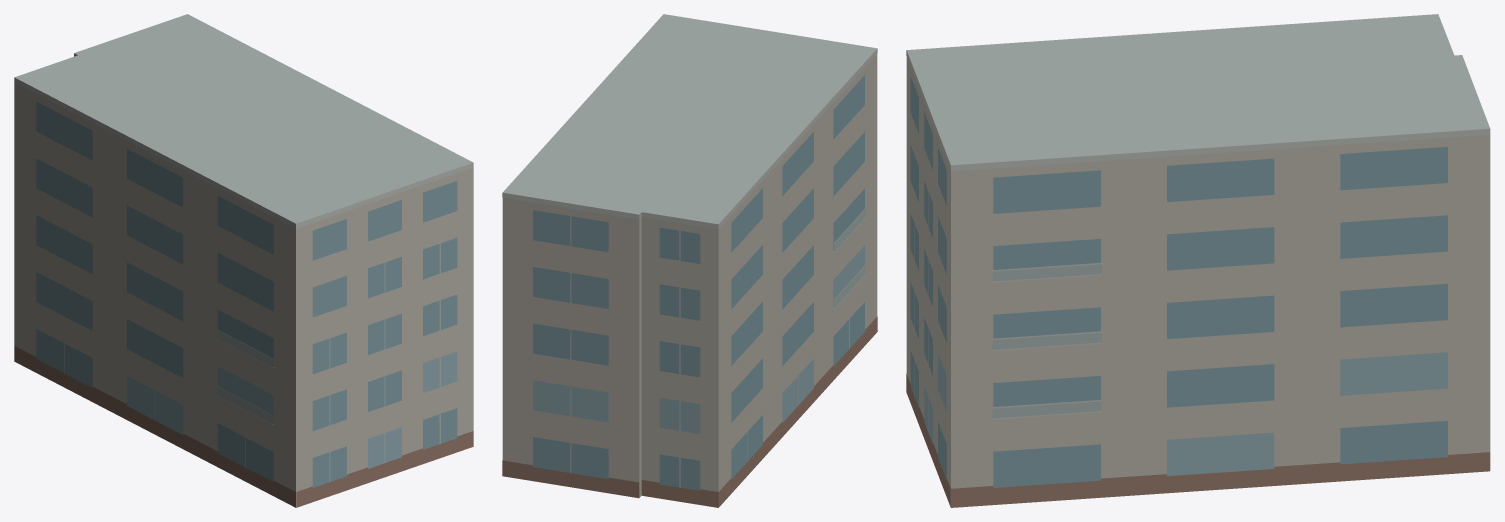
The model's file is survey-upis-32769907.glb.
3 renders of one model, left to right at view 1: azimuth 30°, elevation 25°; view 2: azimuth 150°, elevation 25°; view 3: azimuth 270°, elevation 25°, orthographic. The views are drawn at different scales.
Visible parts, largest first — view 1: survey-upis-32769907.tmp; view 2: survey-upis-32769907.tmp; view 3: survey-upis-32769907.tmp.
Boxes of the visible parts, x1=… form: survey-upis-32769907.tmp: x1=14, y1=14, x2=473, y2=507; survey-upis-32769907.tmp: x1=502, y1=14, x2=877, y2=507; survey-upis-32769907.tmp: x1=906, y1=14, x2=1490, y2=507.
Bounding box in the file's own units: 13.18 × 13.9 × 21.48.
